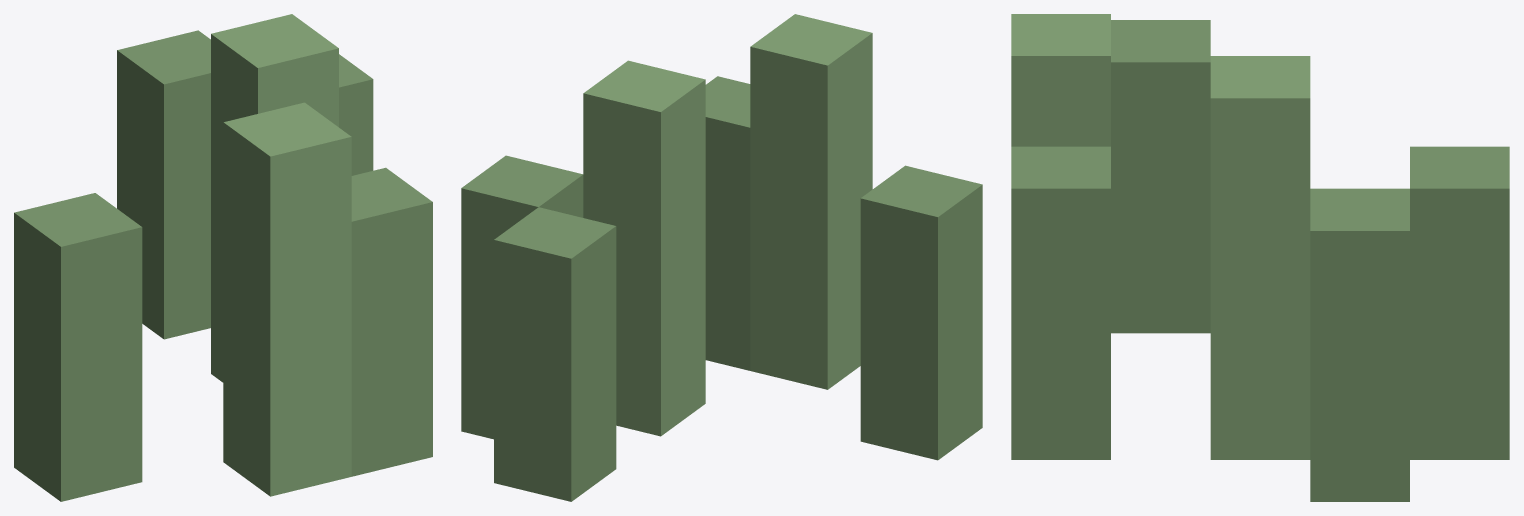
Rendered from berro_03.glb.
3 renders of one model, left to right at view 1: azimuth 30°, elevation 25°; view 2: azimuth 150°, elevation 25°; view 3: azimuth 270°, elevation 25°, orthographic. The views are drawn at different scales.
Visible parts, largest first — view 1: berro_03; view 2: berro_03; view 3: berro_03.
Part boxes in pixels (x1,y1,x2,y2): berro_03: (14,14,432,501); berro_03: (461,14,982,501); berro_03: (1011,14,1509,501).
Bounding box in the file's own units: 0.5 × 0.4 × 0.5.
